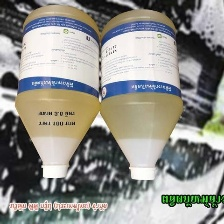cleaning_solution: (13, 3, 103, 180), (95, 6, 184, 180)
